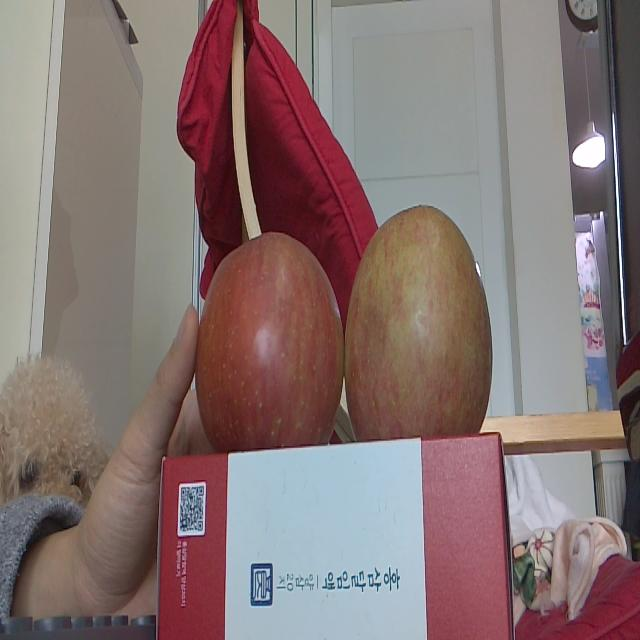apple: (344, 206, 490, 437), (194, 232, 342, 445)
